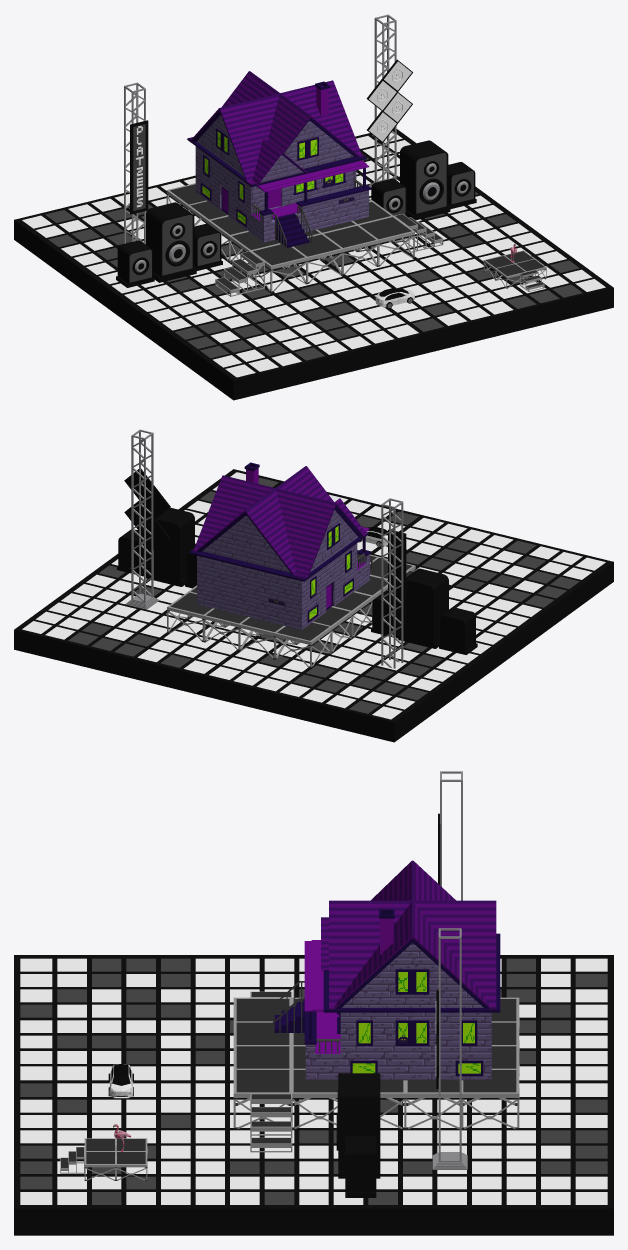
The picture shows the model from 3 angles, top to bottom: view 1: azimuth 30°, elevation 25°; view 2: azimuth 150°, elevation 25°; view 3: azimuth 270°, elevation 25°; orthographic projection. The views are drawn at different scales.
Visible parts, largest first — view 1: Cube.008, Cube.039, VEHICLES_TESLA; view 2: Cube.008, Cube.039; view 3: Cube.008, Cube.039, VEHICLES_TESLA.
Part boxes in pixels (x1,y1,x2,y2): Cube.008: [14, 14, 613, 400]; Cube.039: [187, 71, 371, 248]; VEHICLES_TESLA: [375, 288, 415, 308]; Cube.008: [14, 429, 613, 742]; Cube.039: [189, 462, 372, 629]; Cube.008: [14, 771, 613, 1235]; Cube.039: [272, 860, 500, 1080]; VEHICLES_TESLA: [108, 1064, 133, 1098].
Size of the model in its own units: 4000 by 1995 by 4000.
Materials: 32 (5 with a texture image).
